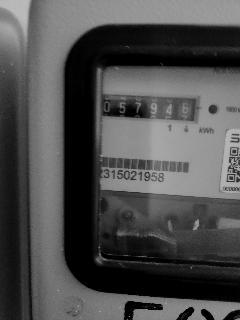1: (104, 102, 110, 112)
5: (166, 105, 172, 116)
6: (119, 103, 126, 114)
7: (182, 102, 188, 114)
8: (135, 103, 141, 114)
object: (151, 104, 157, 115)
